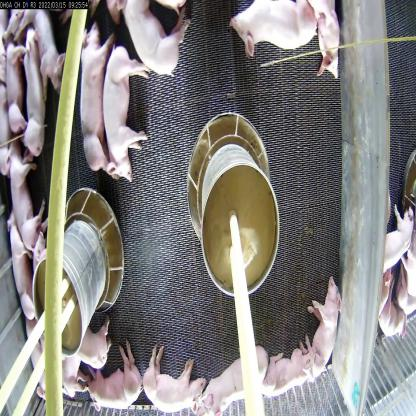Pig: (105, 30, 151, 194), (226, 1, 319, 62), (1, 146, 46, 270), (200, 348, 279, 416), (71, 27, 106, 176), (140, 344, 213, 414), (81, 348, 146, 412), (15, 25, 46, 153), (312, 278, 345, 396), (30, 0, 68, 93), (375, 202, 416, 280), (264, 355, 323, 407), (7, 219, 27, 321)
